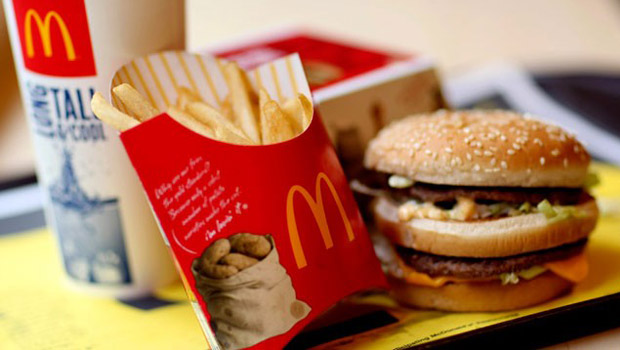mcdonalds: (281, 169, 362, 273), (17, 6, 85, 68)
